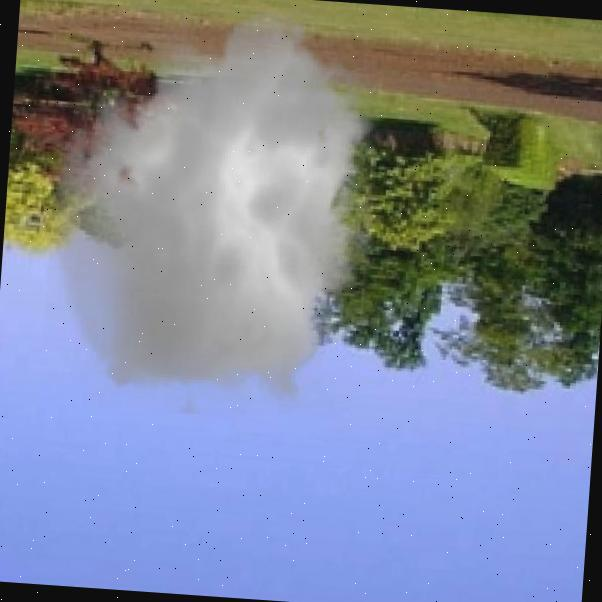smoke: (27, 0, 402, 426)
